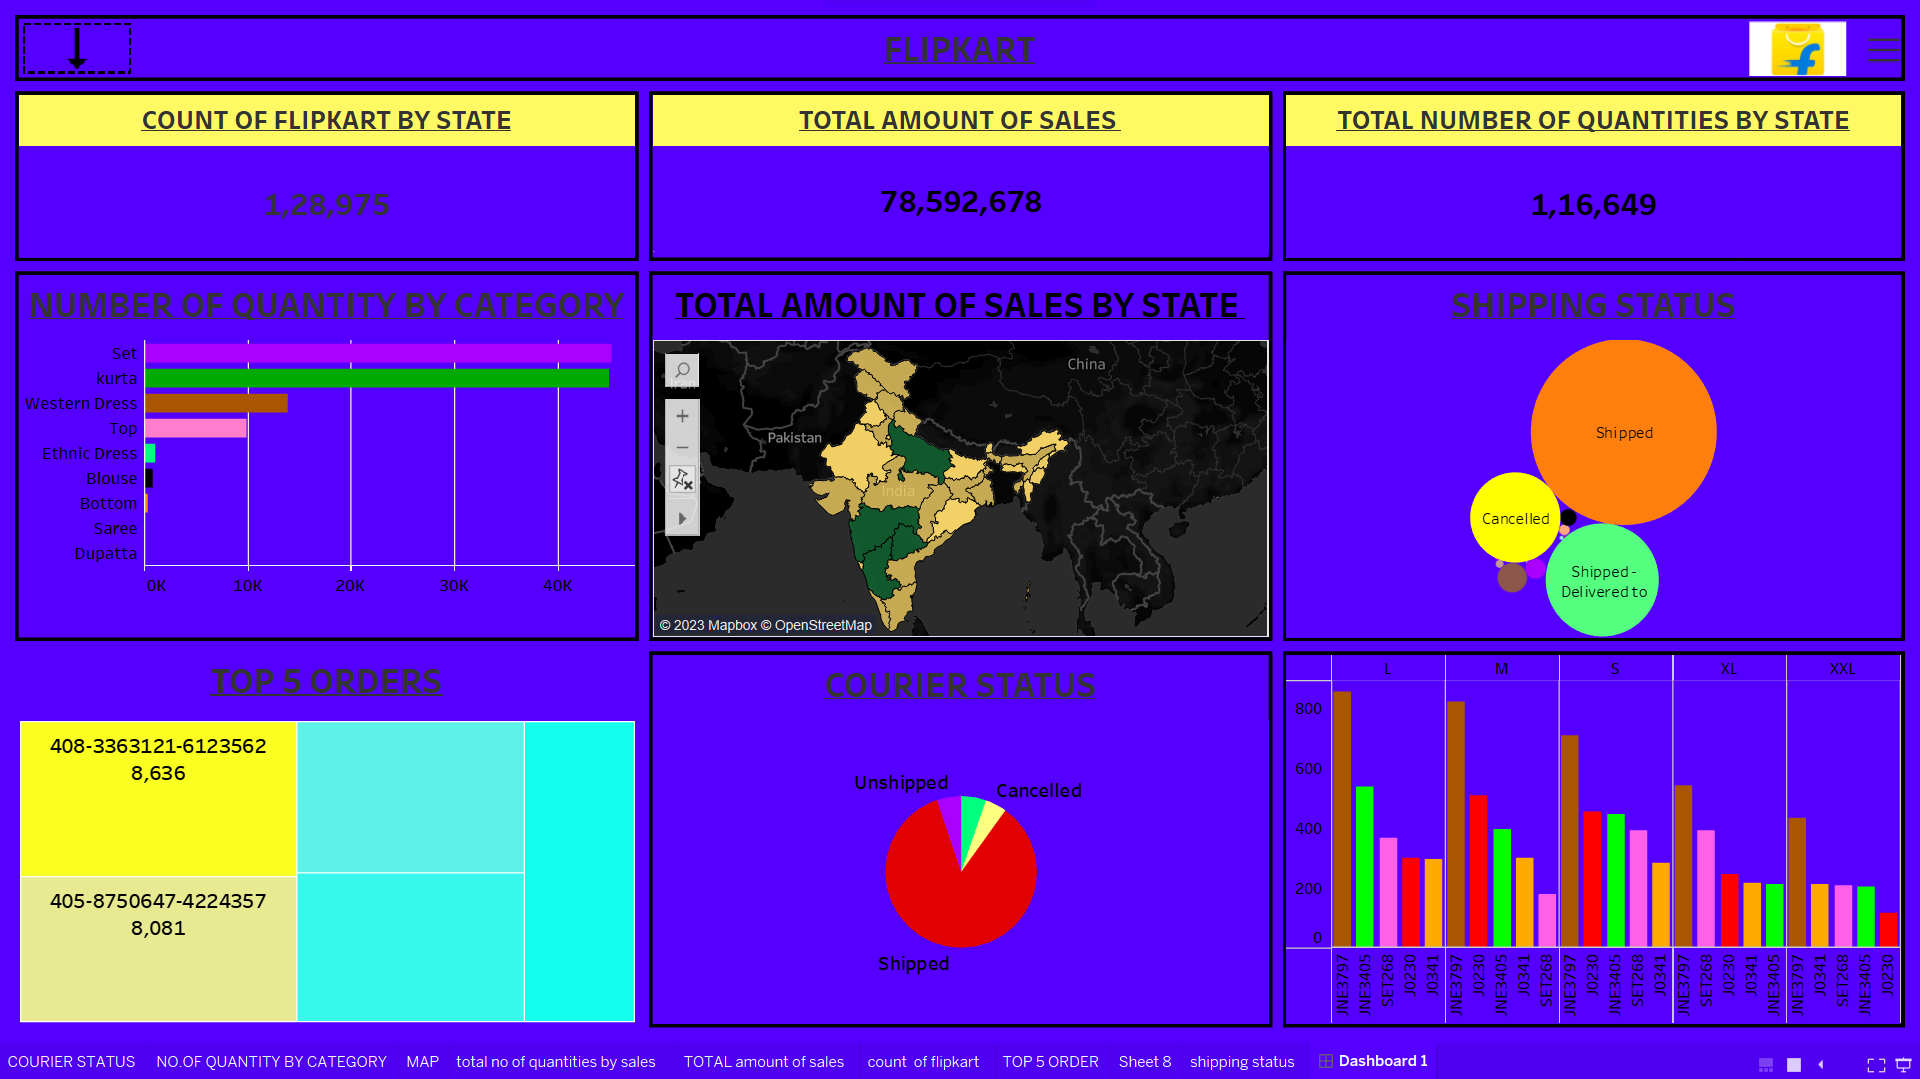

What the dashboard file says about the page in this screenshot:
{"tool":"tableau","page":{"name":"Dashboard 1","canvas":[1000,1000],"units":"permille","ordinal":0},"visuals":[{"type":"title","box":[5.9,11.8,988.3,89.8]},{"type":"image","param":"Image/flipkart logo.png","box":[910.9,20.6,52.1,53]},{"type":"dashboard-object","box":[11.7,22.1,56.4,48.6]},{"type":"web page","param":"https://www.flipkart.com/","box":[86.5,30.9,816.9,838]},{"type":"dashboard-object","box":[972.1,30.9,18.1,35.4]},{"type":"filter","title":"MAP","param":"[federated.0ejuwz91ci4jo31cugbfm0jqkp5e].[none:ship-state:nk]","box":[864.9,70.7,126.8,899.9]},{"type":"worksheet","title":"count  of flipkart","mark":"Automatic","box":[5.9,101.6,329.7,154.6]},{"type":"worksheet","title":"TOTAL amount of sales","mark":"Automatic","box":[335.5,101.6,329.7,154.6]},{"type":"worksheet","title":"total no of quantities by sales","mark":"Automatic","box":[665.2,101.6,328.9,154.6]},{"type":"worksheet","title":"NO.OF QUANTITY BY CATEGORY","mark":"Automatic","rows":["Category"],"cols":["Qty"],"box":[5.9,256.3,329.7,363.8]},{"type":"worksheet","title":"MAP","mark":"Automatic","box":[335.5,256.3,329.7,363.8]},{"type":"worksheet","title":"shipping status","mark":"Circle","box":[665.2,256.3,328.9,363.8]},{"type":"worksheet","title":"TOP 5 ORDER","mark":"Automatic","box":[5.9,620,329.7,368.2]},{"type":"worksheet","title":"COURIER STATUS","mark":"Pie","box":[335.5,620,329.7,368.2]},{"type":"worksheet","title":"Sheet 8","mark":"Automatic","rows":["fipkart.csv_F3C6F03DC55A4B6498A2EA6B6E3A55F2"],"cols":["Size","Style"],"box":[665.2,620,328.9,368.2]}]}

Visuals, with their boxes on the dashboard's canvas, which has no fixed pixel size, in thousandths of its width and height (x1, y1, x2, y2). These are canvas units, not pixel positions in the 1920x1079 screenshot, which may show the page scaled, cropped or inside an application window:
title: (6,12,994,102)
image: (911,21,963,74)
dashboard-object: (12,22,68,71)
web page: (86,31,903,869)
dashboard-object: (972,31,990,66)
"MAP" filter: (865,71,992,971)
"count  of flipkart" worksheet: (6,102,336,256)
"TOTAL amount of sales" worksheet: (336,102,665,256)
"total no of quantities by sales" worksheet: (665,102,994,256)
"NO.OF QUANTITY BY CATEGORY" worksheet: (6,256,336,620)
"MAP" worksheet: (336,256,665,620)
"shipping status" worksheet (Circle marks): (665,256,994,620)
"TOP 5 ORDER" worksheet: (6,620,336,988)
"COURIER STATUS" worksheet (Pie marks): (336,620,665,988)
"Sheet 8" worksheet: (665,620,994,988)
